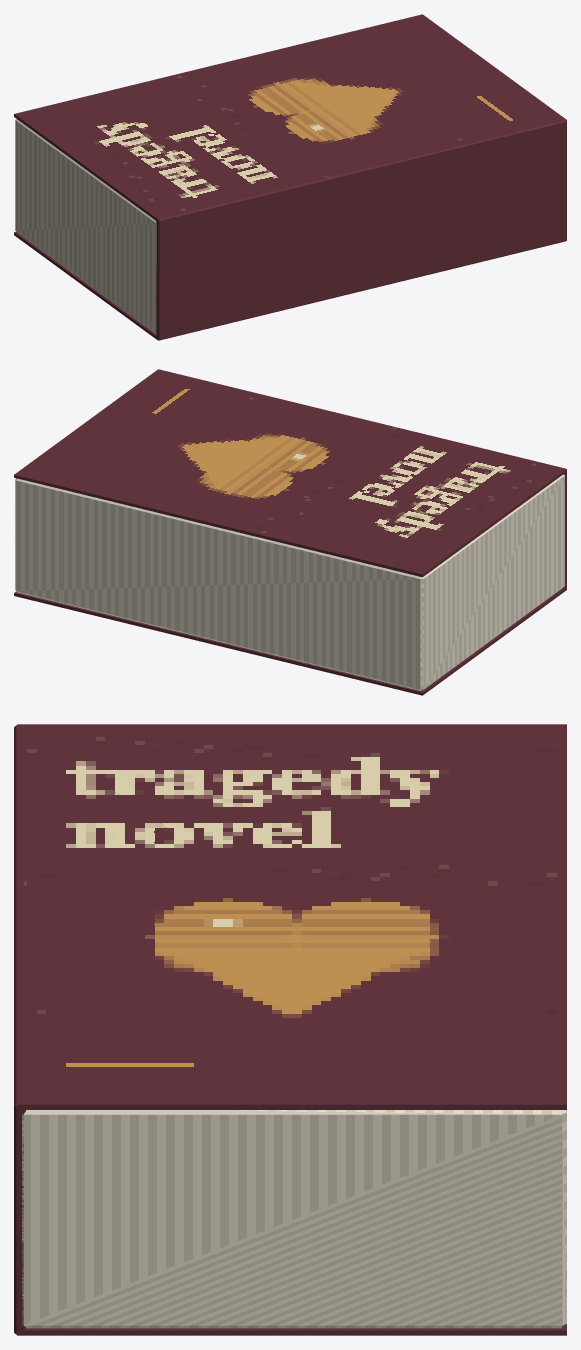
Rendered from novel_tragedy.glb.
The picture shows the model from 3 angles, top to bottom: view 1: azimuth 30°, elevation 25°; view 2: azimuth 150°, elevation 25°; view 3: azimuth 270°, elevation 25°; orthographic projection. The views are drawn at different scales.
Parts seen in each view (by area): view 1: block_front, block_spine, block_pages, block_back; view 2: block_pages, block_front, block_back, block_spine; view 3: block_front, block_pages, block_spine, block_back.
Part boxes in pixels (x1=…): block_front: x1=14, y1=14, x2=566, y2=221; block_spine: x1=156, y1=120, x2=566, y2=340; block_pages: x1=15, y1=119, x2=156, y2=334; block_back: x1=14, y1=232, x2=566, y2=340; block_pages: x1=15, y1=474, x2=564, y2=691; block_front: x1=14, y1=369, x2=566, y2=577; block_back: x1=14, y1=587, x2=566, y2=695; block_spine: x1=158, y1=369, x2=566, y2=588; block_front: x1=17, y1=724, x2=566, y2=1109; block_pages: x1=22, y1=1110, x2=566, y2=1328; block_spine: x1=14, y1=725, x2=25, y2=1334; block_back: x1=17, y1=1324, x2=566, y2=1335.
Size of the model in its own units: 0.18 by 0.051 by 0.1106.
Materials: 1 (1 with a texture image).
